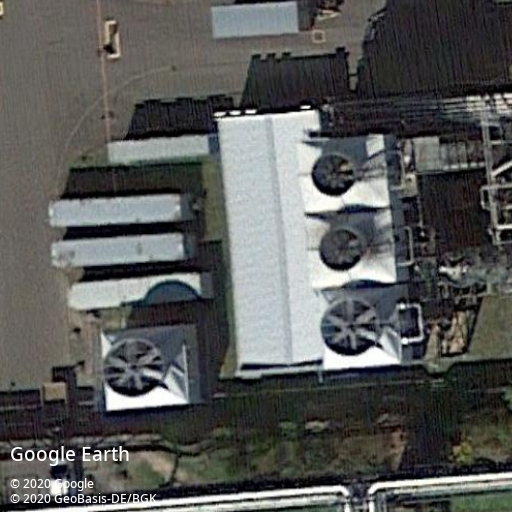Vent: (103, 338, 165, 398), (319, 298, 381, 357), (310, 151, 357, 197), (319, 227, 365, 273)
